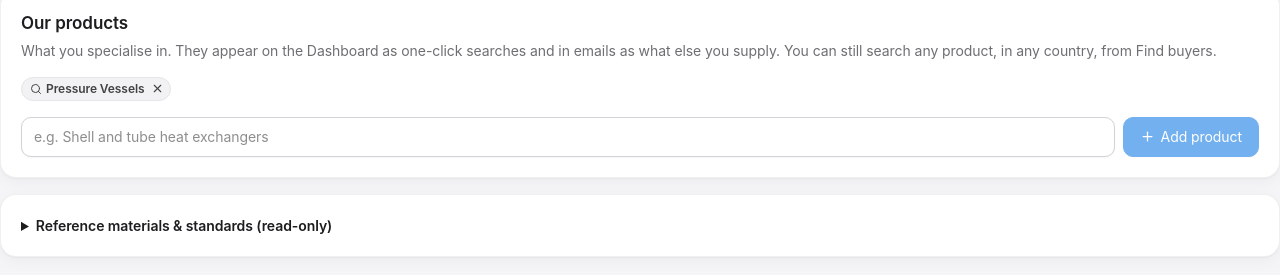
Scenario: Editable Catalogue › removes only the selected product
Click the button named "Remove Pressure Vessels" at (157, 88), box left=148, top=80, right=166, bottom=97
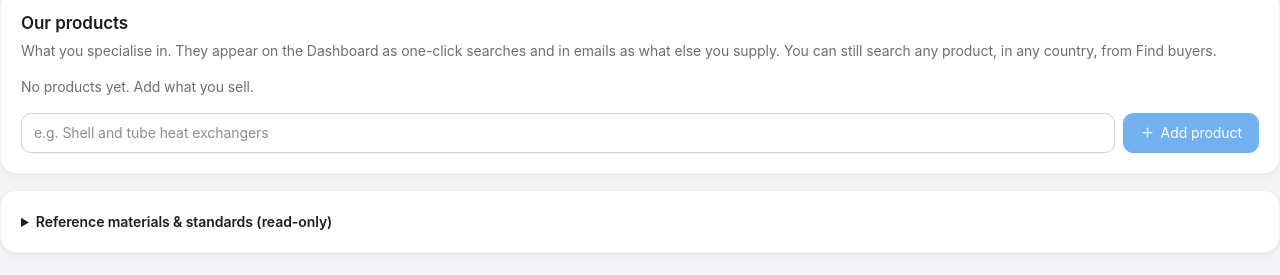
Expected: the link "Pressure Vessels" is gone
